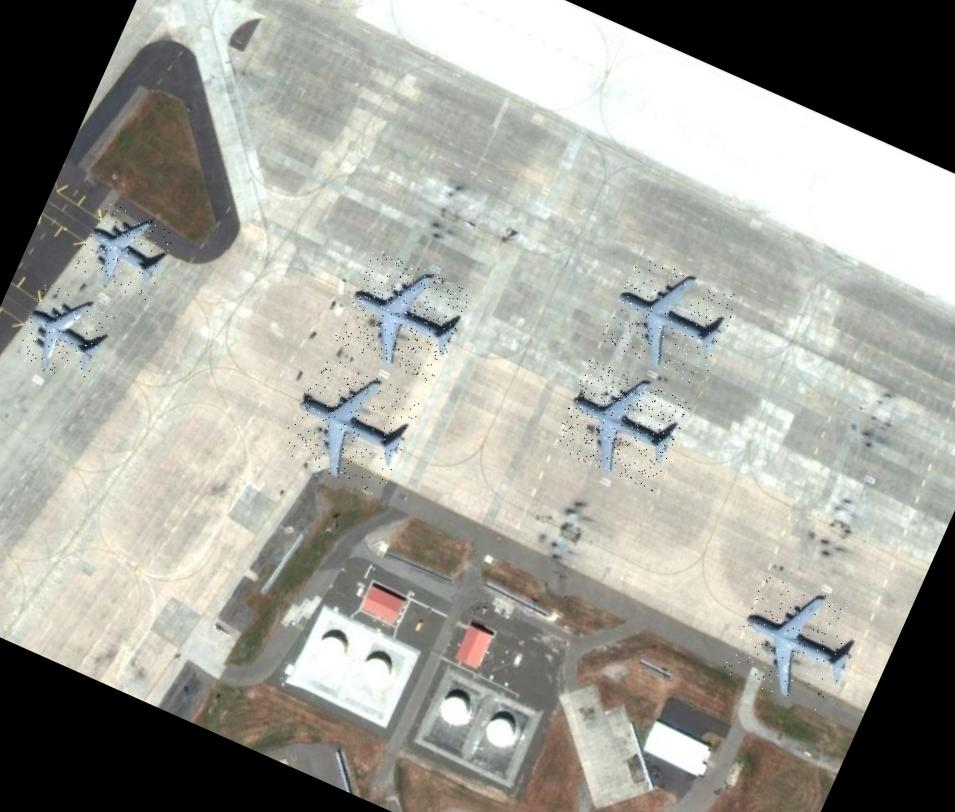A3: (10, 282, 116, 389), (72, 200, 176, 302)
A4: (720, 570, 870, 718), (276, 353, 423, 498), (596, 252, 740, 388), (332, 247, 473, 385), (550, 357, 690, 492)
